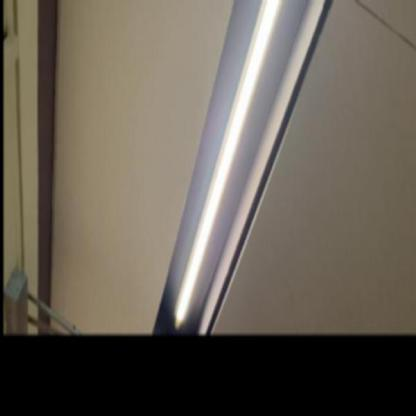light_on: (167, 0, 309, 335)
